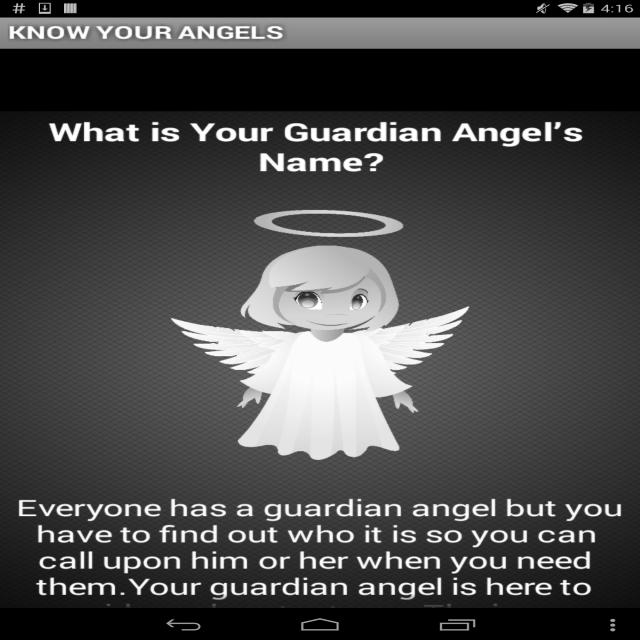ImageView: (174, 208, 453, 462)
TextView: (6, 494, 623, 600), (42, 120, 584, 147), (3, 21, 298, 45), (238, 146, 383, 174)
